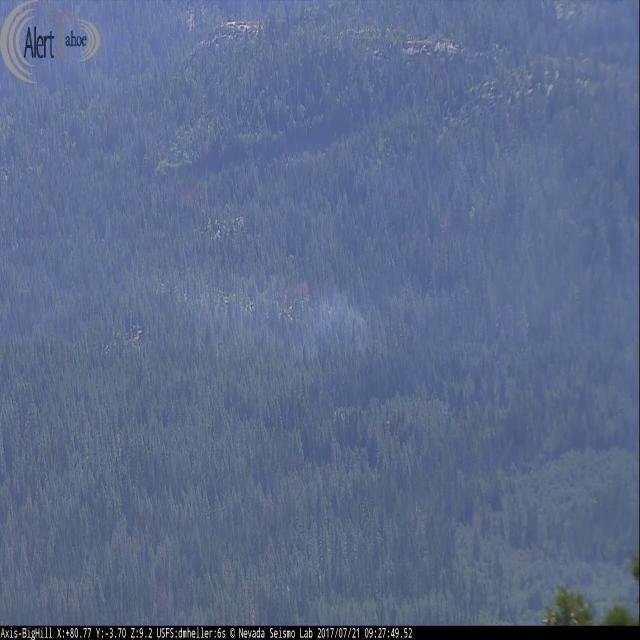smoke: (135, 268, 364, 366)
